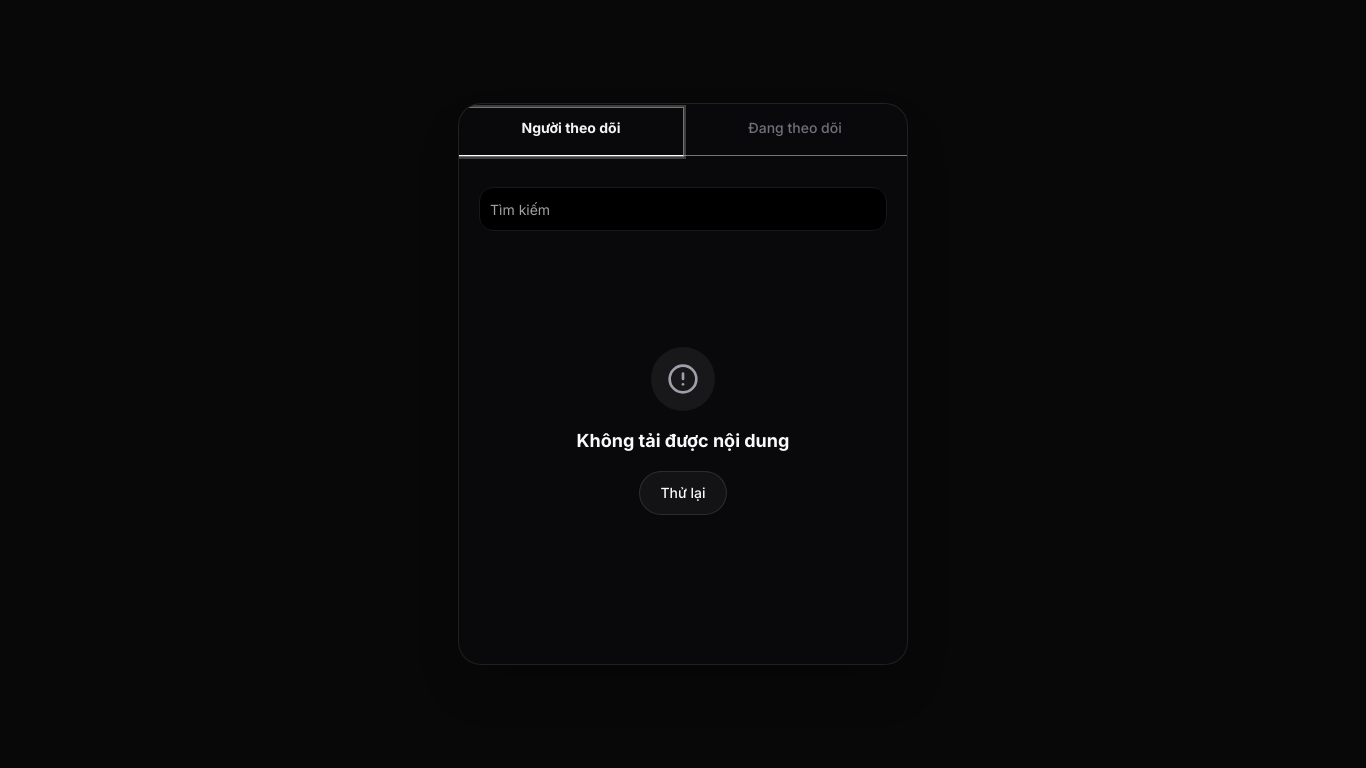
Scenario: FollowersDialog › shows an error state on first-page failure, with a retry that refetches
Expected: the heading "Không tải được nội dung" is shown, [577,427,789,455]
Click the button "Thử lại" at (683, 493), box [639,471,727,515]
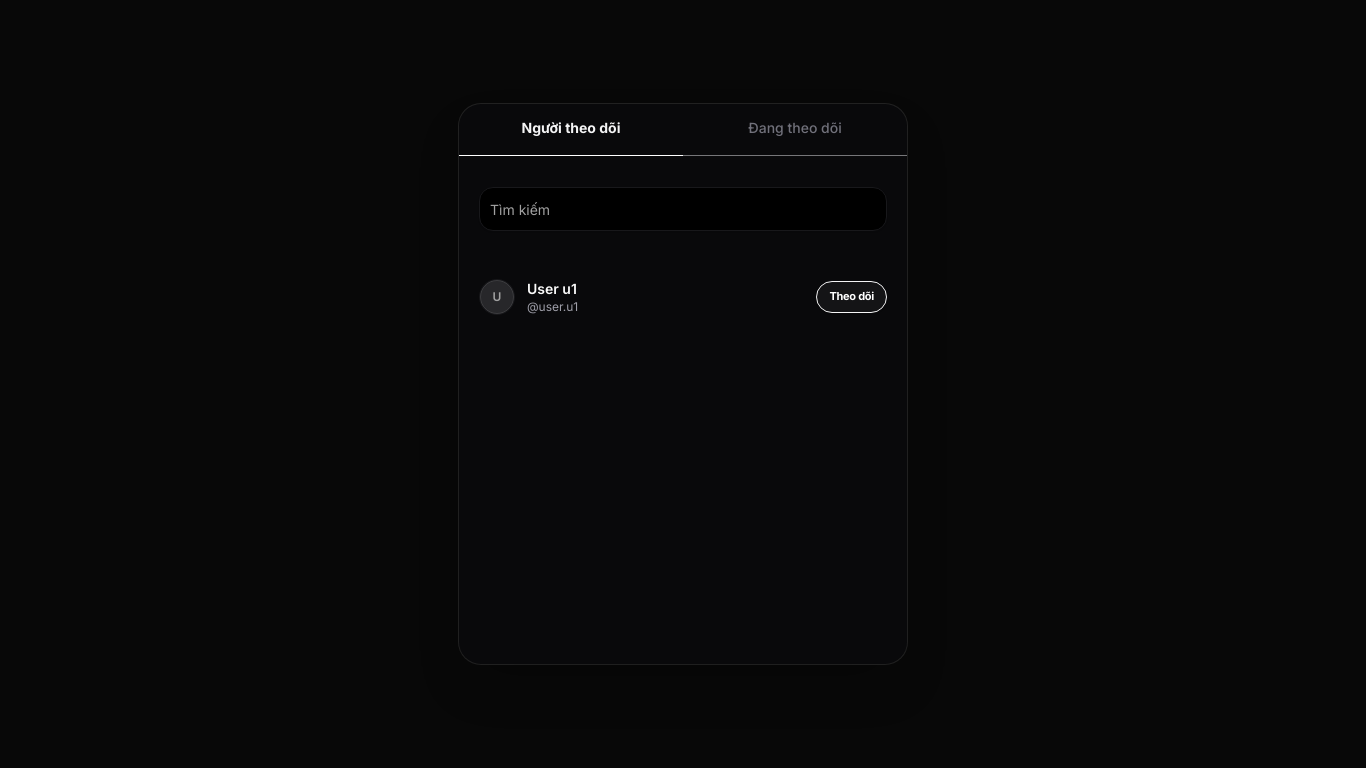
Now the number of list items is 1, box [479,267,887,327]
